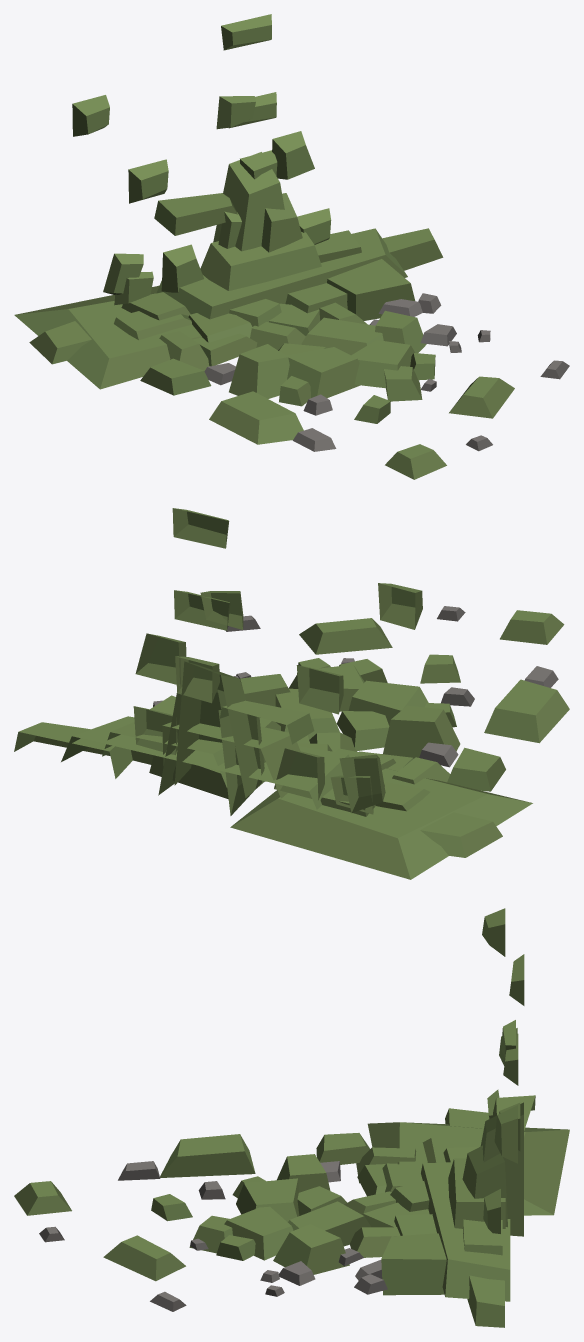
File: AI_Env_Growth_Window.fbx
3 views of the same model, one above another, from view 1: azimuth 30°, elevation 25°; view 2: azimuth 150°, elevation 25°; view 3: azimuth 270°, elevation 25° (orthographic). The views are drawn at different scales.
Parts seen in each view (by area): view 1: AI_Env_Growth_Window; view 2: AI_Env_Growth_Window; view 3: AI_Env_Growth_Window.
Boxes of the visible parts, x1,y1,x2,y2 form: AI_Env_Growth_Window: (14, 14, 569, 479); AI_Env_Growth_Window: (14, 508, 569, 879); AI_Env_Growth_Window: (14, 908, 569, 1327).
Bounding box in the file's own units: 4.97 × 3.16 × 5.65.
